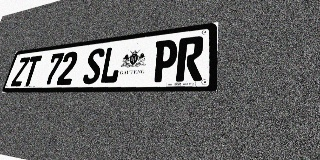2: (56, 51, 79, 85)
7: (43, 53, 65, 85)
L: (99, 45, 124, 84)
P: (151, 39, 179, 82)
R: (175, 35, 204, 82)
S: (82, 48, 106, 84)
T: (21, 55, 42, 86)
Z: (10, 57, 31, 86)
